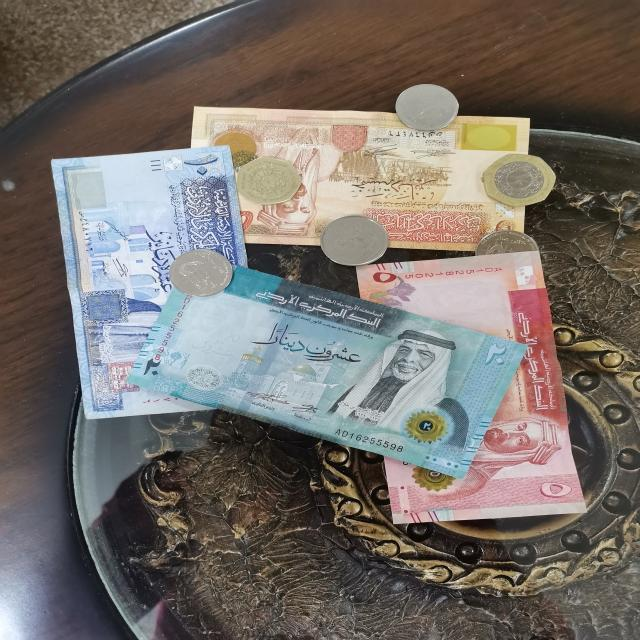10-coins: (309, 210, 399, 269)
10-dinar: (49, 142, 250, 422)
20-dinar: (119, 247, 536, 484)
25-coins: (231, 154, 306, 208)
5-coins: (463, 226, 554, 282), (390, 77, 468, 138), (162, 245, 240, 299)
5-dinar: (352, 248, 591, 530), (182, 104, 536, 246)
50-coins: (479, 150, 559, 210)
